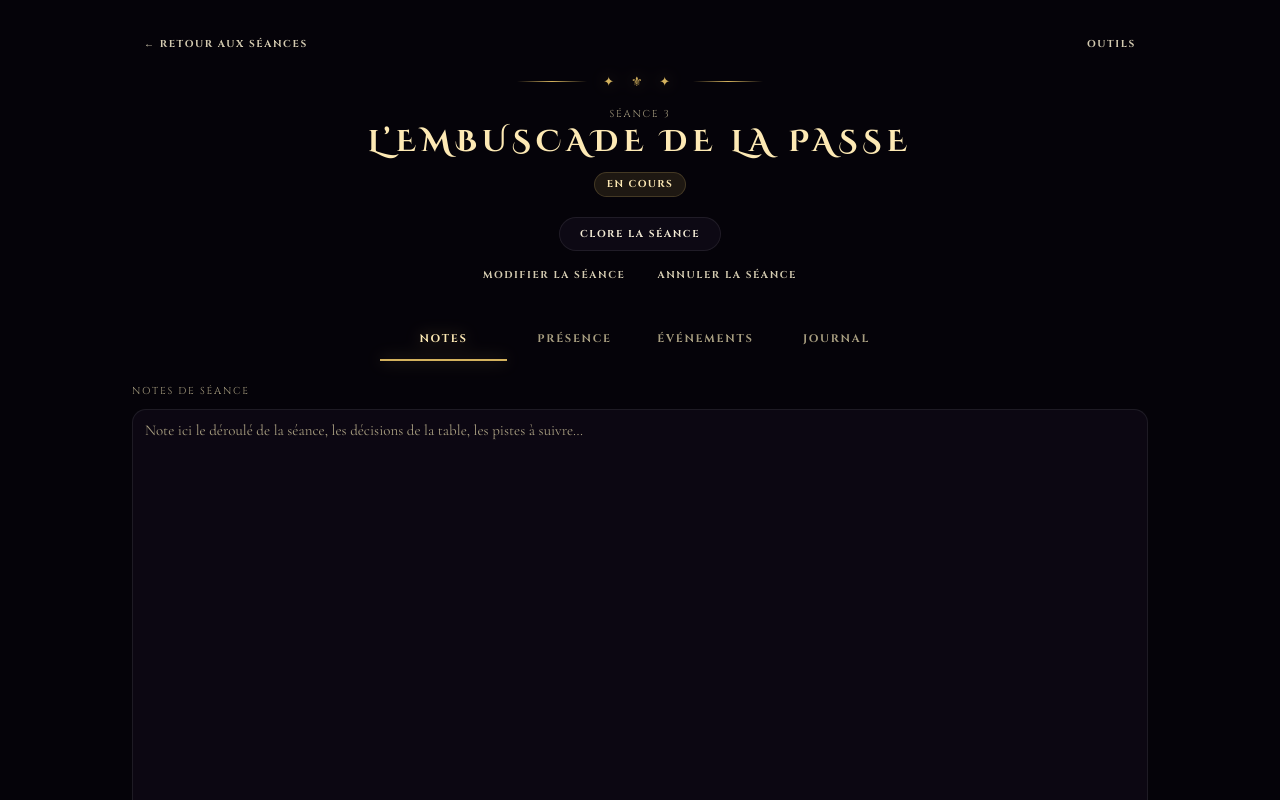
Scenario: <SessionScreen> — outils du meneur › le MJ ouvre jet secret + bloc-notes sans quitter la séance
Click the button "Outils". click: (1112, 44)
box: [1075,32,1148,56]
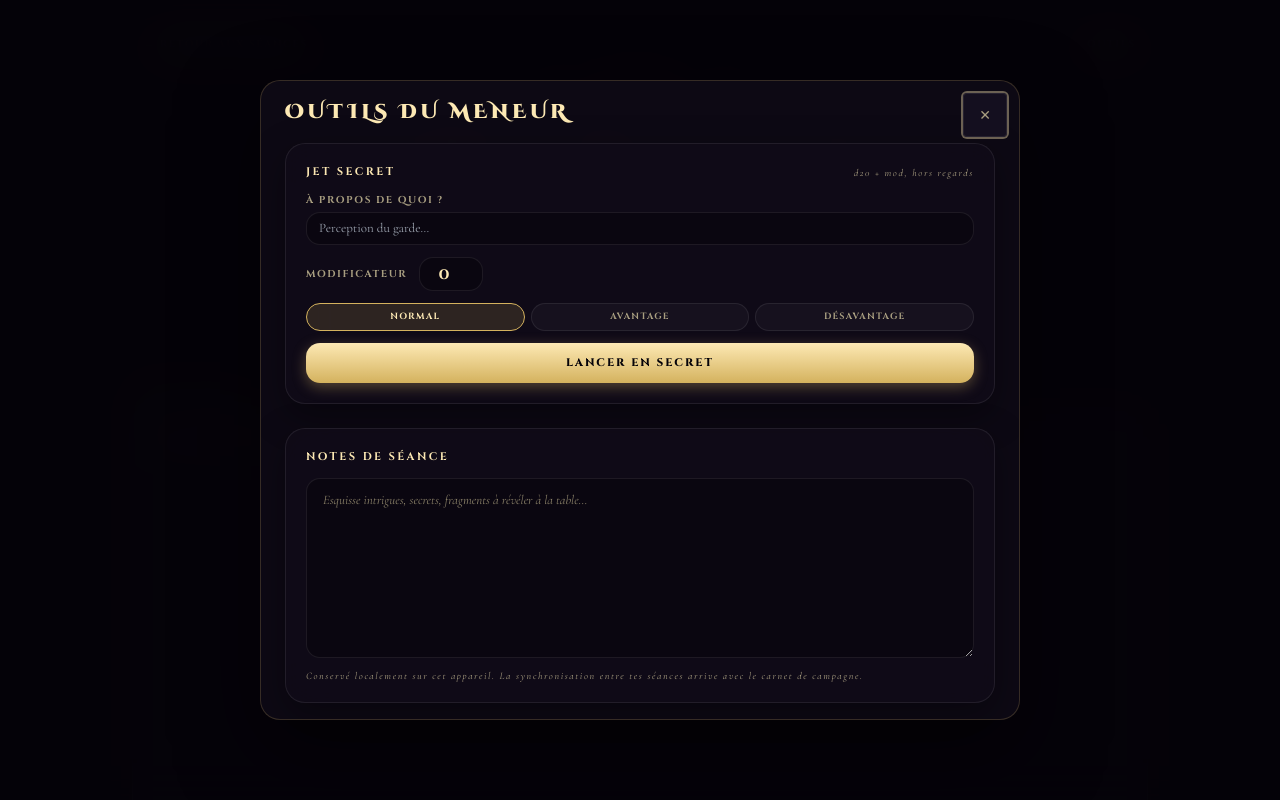
Expected: the heading "Outils du meneur" is shown, [285,98,569,125]
Expected: the button "Lancer en secret" is shown, [306,343,974,383]
